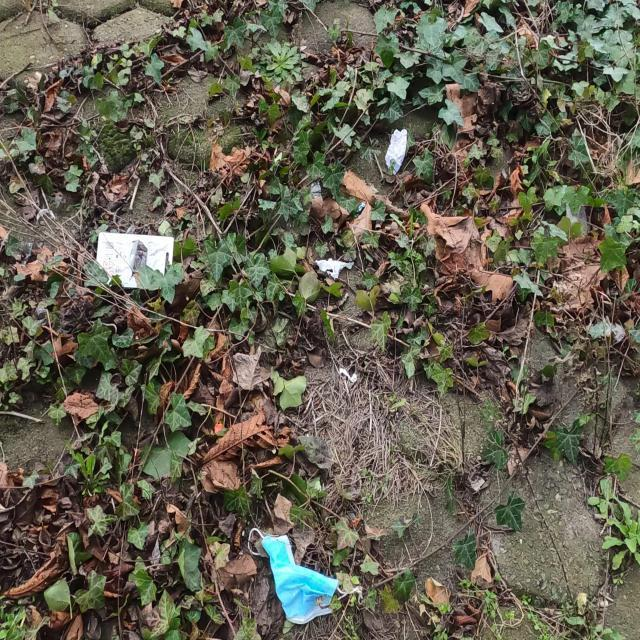Mask: (250, 518, 349, 622)
